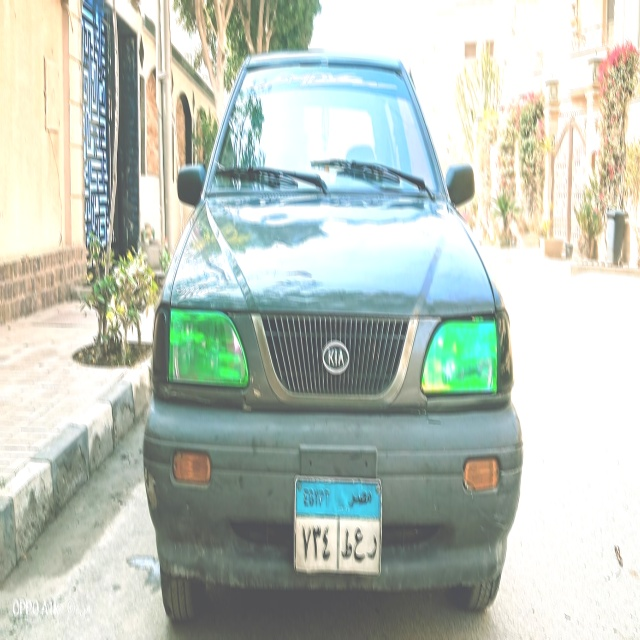License Plate: (292, 476, 382, 580)
